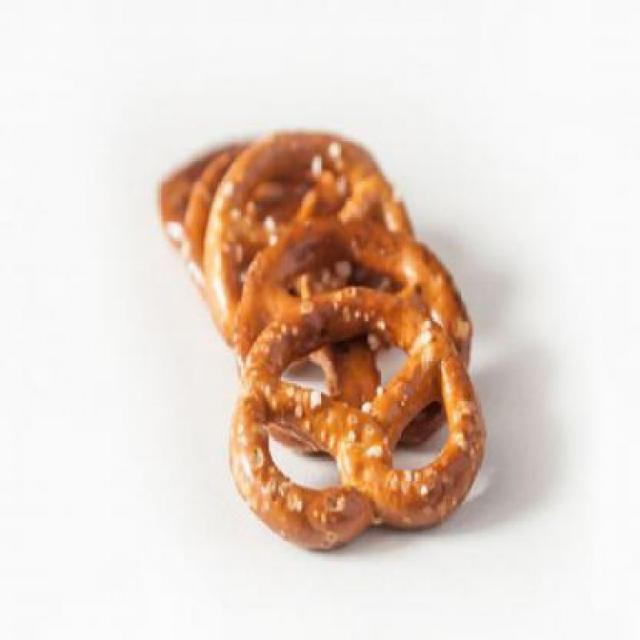Salatini packaged: (159, 133, 487, 547)
